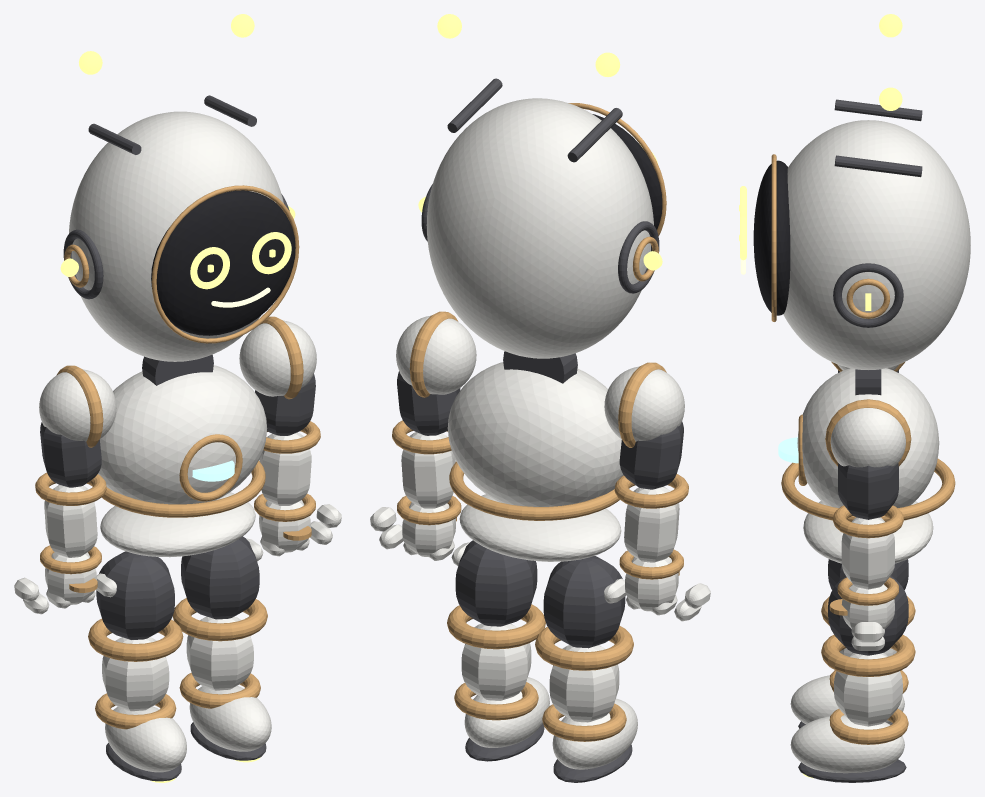
Rendered from robot_mascot.glb.
The picture shows the model from 3 angles, left to right: view 1: azimuth 30°, elevation 25°; view 2: azimuth 150°, elevation 25°; view 3: azimuth 270°, elevation 25°; orthographic projection. The views are drawn at different scales.
Visible parts, largest first — view 1: head, torso, face_display, hips, upperleg_L, upperleg_R, shoulder_R, shoulder_L, foot_R_shell, foot_L_shell, lowerleg_L, lowerleg_R (+28 smaller); view 2: head, torso, hips, upperleg_L, upperleg_R, shoulder_R, shoulder_L, lowerleg_L, lowerleg_R, hand_L, hand_R, forearm_L (+24 smaller); view 3: head, torso, face_display, foot_R_shell, shoulder_R, lowerleg_R, upperarm_R, forearm_R, hips, torso_belt, knee_R, hand_R (+17 smaller).
Boxes of the visible parts, x1=… form: head: x1=69, y1=111, x2=283, y2=361; torso: x1=98, y1=365, x2=267, y2=504; face_display: x1=151, y1=190, x2=295, y2=335; hips: x1=100, y1=492, x2=255, y2=557; upperleg_L: x1=96, y1=551, x2=174, y2=639; upperleg_R: x1=181, y1=536, x2=259, y2=619; shoulder_R: x1=239, y1=320, x2=316, y2=396; shoulder_L: x1=39, y1=369, x2=116, y2=441; foot_R_shell: x1=189, y1=685, x2=271, y2=751; foot_L_shell: x1=105, y1=706, x2=186, y2=772; lowerleg_L: x1=102, y1=637, x2=169, y2=711; lowerleg_R: x1=186, y1=616, x2=253, y2=690; head: x1=426, y1=98, x2=653, y2=358; torso: x1=447, y1=362, x2=623, y2=506; hips: x1=459, y1=494, x2=621, y2=561; upperleg_L: x1=543, y1=556, x2=625, y2=648; upperleg_R: x1=455, y1=540, x2=537, y2=626; shoulder_R: x1=396, y1=315, x2=476, y2=394; shoulder_L: x1=604, y1=366, x2=684, y2=441; lowerleg_L: x1=549, y1=645, x2=619, y2=722; lowerleg_R: x1=461, y1=623, x2=531, y2=700; hand_L: x1=604, y1=557, x2=710, y2=621; hand_R: x1=370, y1=502, x2=469, y2=565; forearm_L: x1=624, y1=486, x2=679, y2=562; head: x1=783, y1=120, x2=970, y2=369; torso: x1=797, y1=368, x2=939, y2=507; face_display: x1=753, y1=160, x2=790, y2=315; foot_R_shell: x1=790, y1=715, x2=904, y2=773; shoulder_R: x1=830, y1=408, x2=905, y2=467; lowerleg_R: x1=834, y1=652, x2=902, y2=726; upperarm_R: x1=838, y1=463, x2=898, y2=519; forearm_R: x1=841, y1=517, x2=894, y2=589; hips: x1=803, y1=501, x2=933, y2=563; torso_belt: x1=781, y1=458, x2=955, y2=521; knee_R: x1=821, y1=635, x2=915, y2=676; hand_R: x1=841, y1=584, x2=894, y2=650.
Bounding box in the file's own units: 0.186 × 0.3941 × 0.1176.
